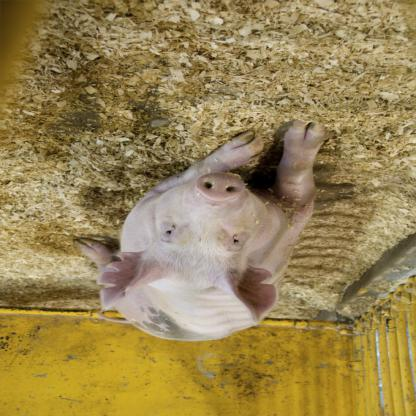boar: (70, 120, 330, 341)
